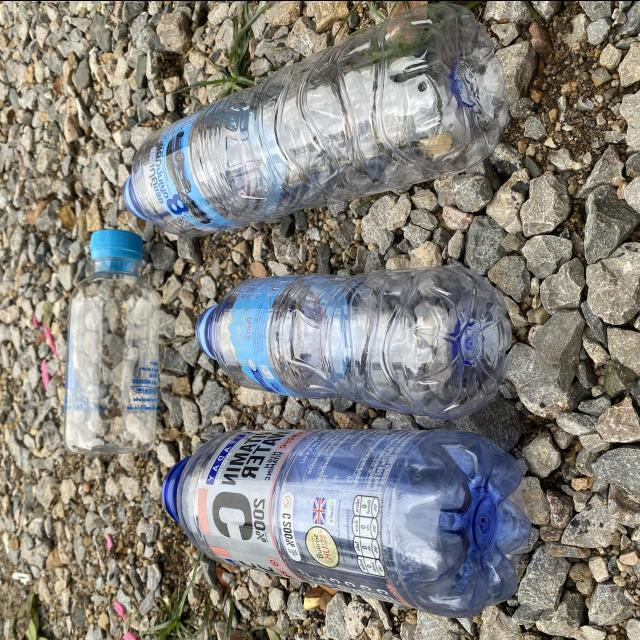plastik: (123, 4, 508, 236), (162, 430, 530, 614), (196, 265, 511, 418), (64, 228, 160, 453)
